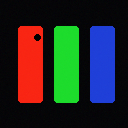0 point: (34, 34, 40, 40)
